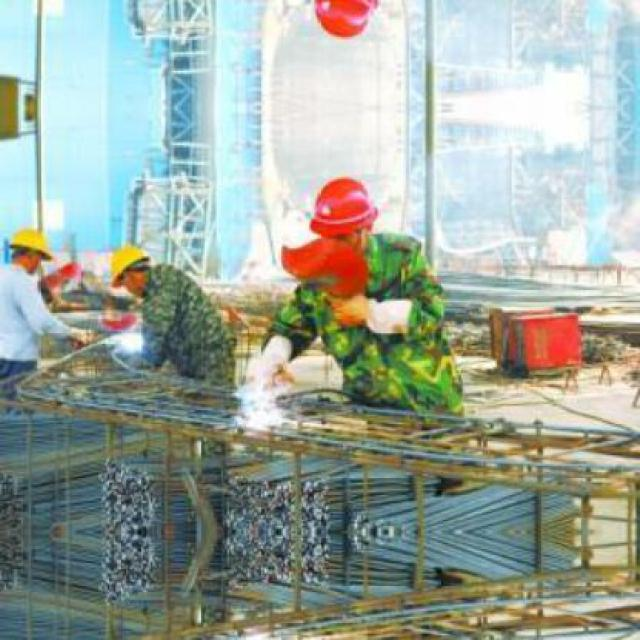helmet: (302, 168, 382, 259), (302, 0, 383, 48), (102, 237, 153, 292), (8, 222, 50, 273)
